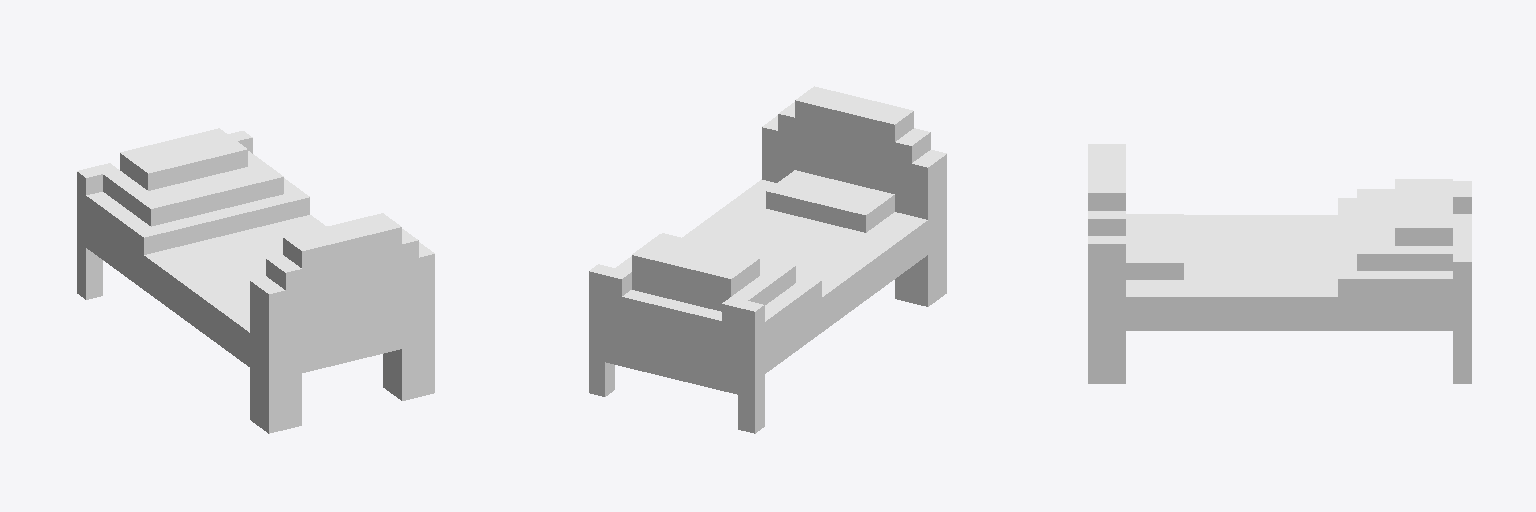
The model's file is BedOpen.obj.
3 views of the same model, side by side, from view 1: azimuth 30°, elevation 25°; view 2: azimuth 150°, elevation 25°; view 3: azimuth 270°, elevation 25° (orthographic).
Visible parts, largest first — view 1: object 1; view 2: object 1; view 3: object 1.
Boxes of the visible parts, x1=… form: object 1: x1=77, y1=128, x2=434, y2=433; object 1: x1=589, y1=86, x2=946, y2=433; object 1: x1=1088, y1=144, x2=1471, y2=383.
Size of the model in its own units: 1 by 1 by 2.